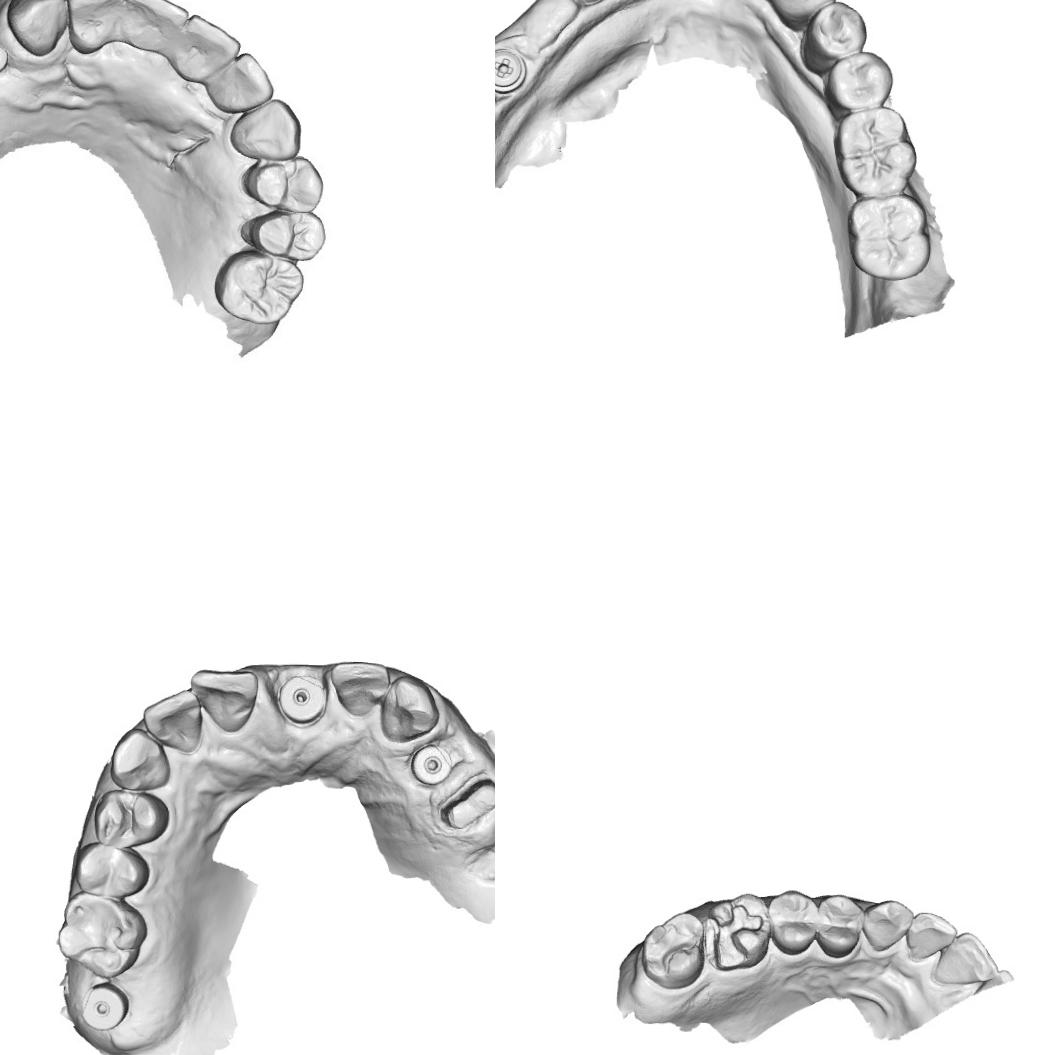canine: (228, 99, 302, 162), (108, 725, 173, 793), (381, 674, 440, 745), (5, 0, 67, 56), (860, 896, 916, 952), (784, 0, 839, 15)
crown: (435, 771, 495, 834)
implant: (277, 672, 329, 728), (81, 980, 128, 1032), (411, 744, 454, 788), (0, 35, 15, 79)
implant_plus: (495, 44, 529, 91)
incisor: (188, 666, 260, 734), (140, 688, 204, 756), (932, 930, 1000, 989), (328, 658, 392, 717), (174, 17, 232, 75), (210, 53, 270, 105), (904, 908, 958, 962), (70, 0, 122, 54), (123, 0, 181, 42)
inlay: (704, 901, 764, 970)
molar: (54, 890, 150, 981), (830, 106, 916, 200), (846, 194, 932, 282), (215, 252, 303, 324), (639, 909, 708, 991)
premolar: (241, 151, 326, 216), (241, 208, 330, 262), (93, 788, 169, 850), (71, 839, 151, 896), (822, 49, 893, 112), (804, 0, 870, 62), (767, 886, 819, 956), (816, 893, 864, 959)
